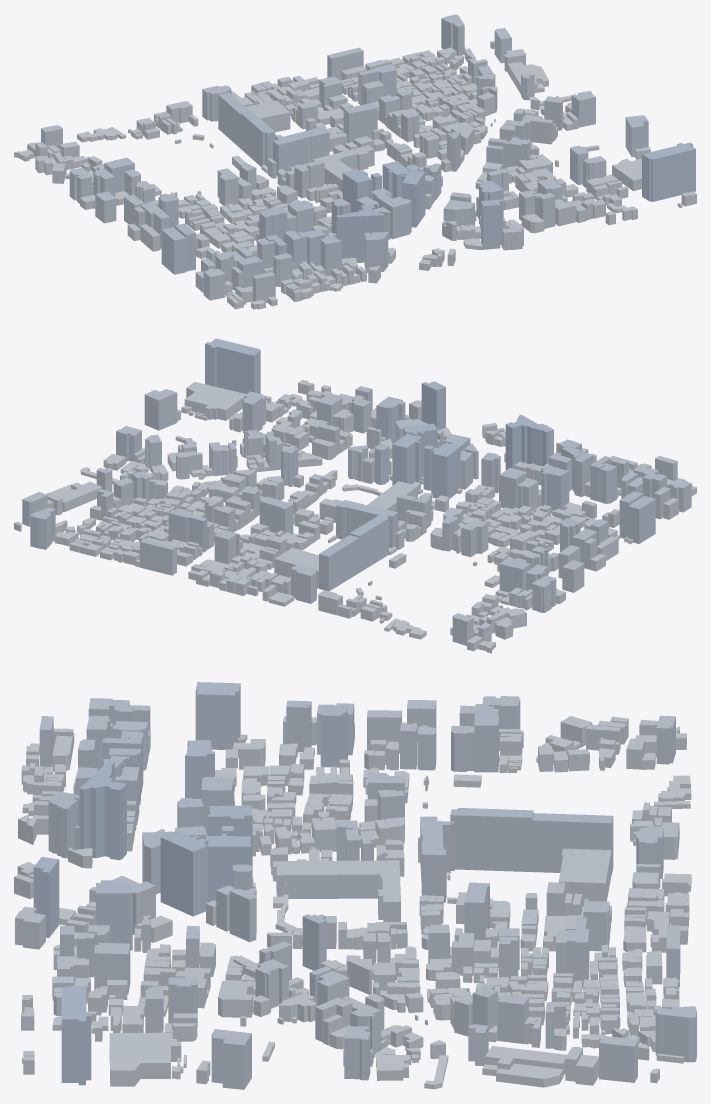
The picture shows the model from 3 angles, top to bottom: view 1: azimuth 30°, elevation 25°; view 2: azimuth 150°, elevation 25°; view 3: azimuth 270°, elevation 25°; orthographic projection. The views are drawn at different scales.
Size of the model in its own units: 516 by 47.31 by 418.
